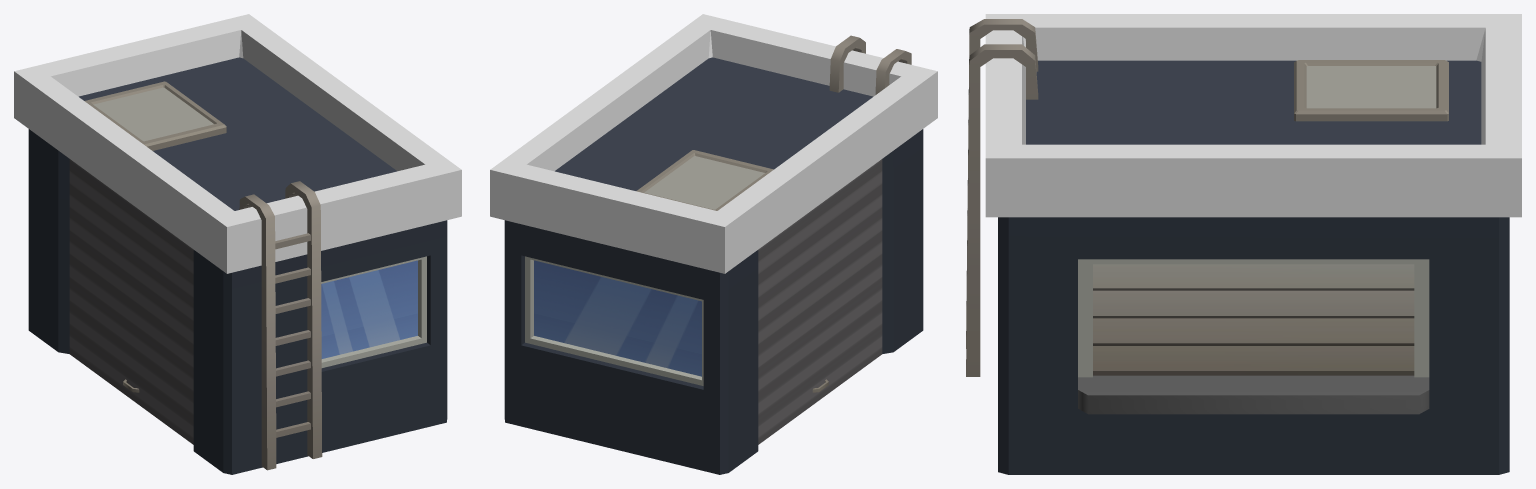
File: Kiosk_1_A.fbx
3 renders of one model, left to right at view 1: azimuth 30°, elevation 25°; view 2: azimuth 150°, elevation 25°; view 3: azimuth 270°, elevation 25°, orthographic. The views are drawn at different scales.
Parts seen in each view (by area): view 1: Kiosk_1_A; view 2: Kiosk_1_A; view 3: Kiosk_1_A.
Part boxes in pixels (x1,y1,x2,y2): Kiosk_1_A: [14, 14, 461, 474]; Kiosk_1_A: [490, 14, 937, 474]; Kiosk_1_A: [966, 14, 1521, 474].
Size of the model in its own units: 297 by 304 by 454.
